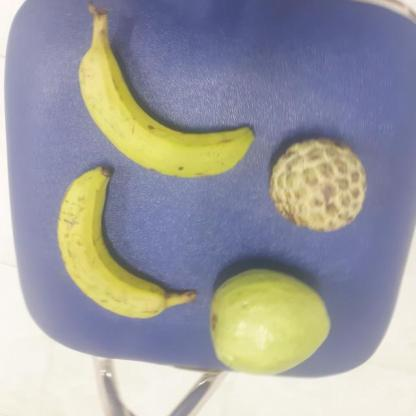annona: (268, 137, 371, 230)
banana: (86, 31, 266, 175), (59, 169, 198, 318)
guava: (208, 266, 331, 378)
